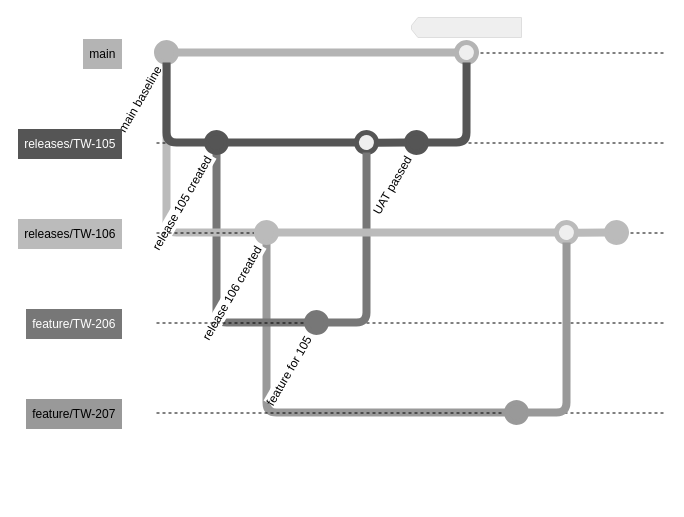
This 684x517 diagram has some shape labels left out. The centre of each missing label's shape, as x and y in pixels:
"feature for 106" goes at point 516,412.
"SIT ongoing" goes at point 616,232.
"TW-105-approved" goes at point 466,27.
